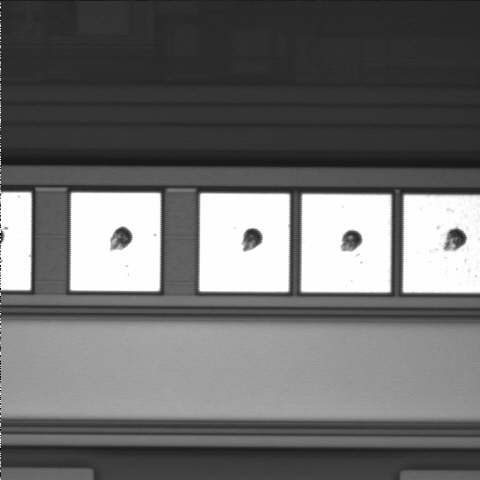pad: (200, 193, 290, 292), (301, 194, 391, 292), (71, 193, 160, 291)
